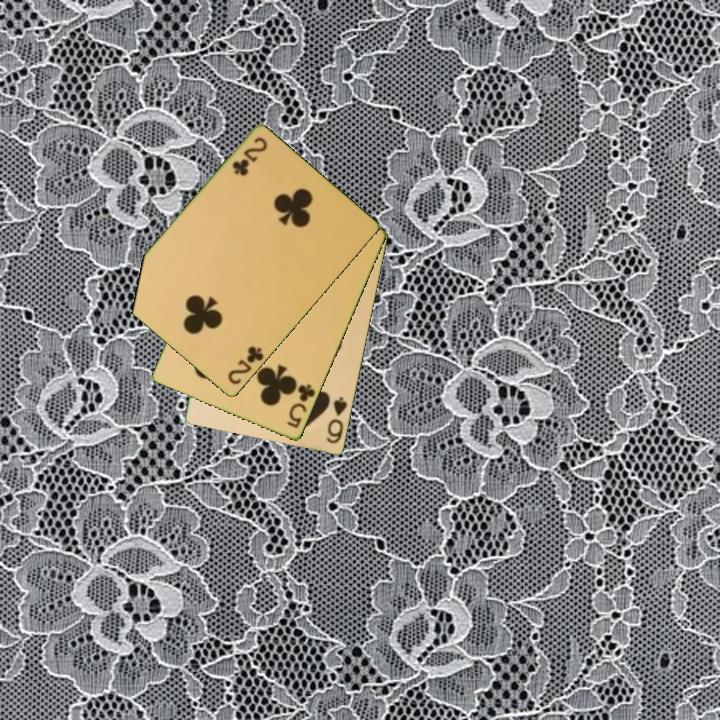2c: (224, 343, 267, 388), (228, 134, 270, 179)
5c: (283, 381, 318, 431)
6s: (323, 393, 350, 447)
